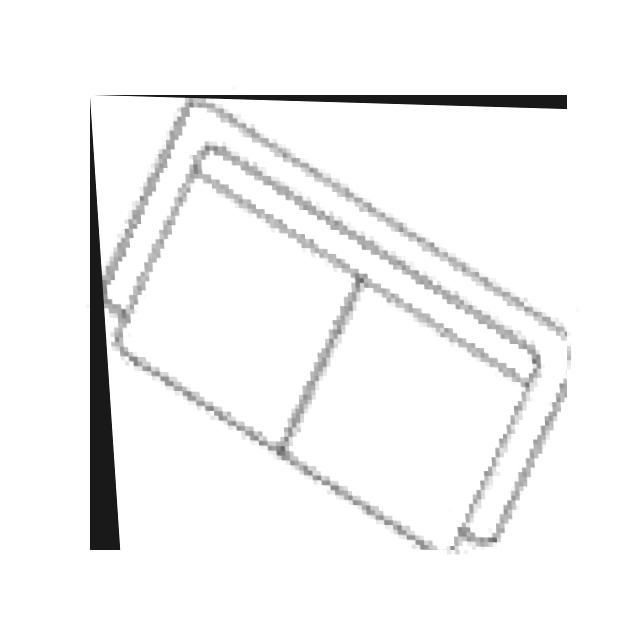sofa: (90, 95, 567, 550)
